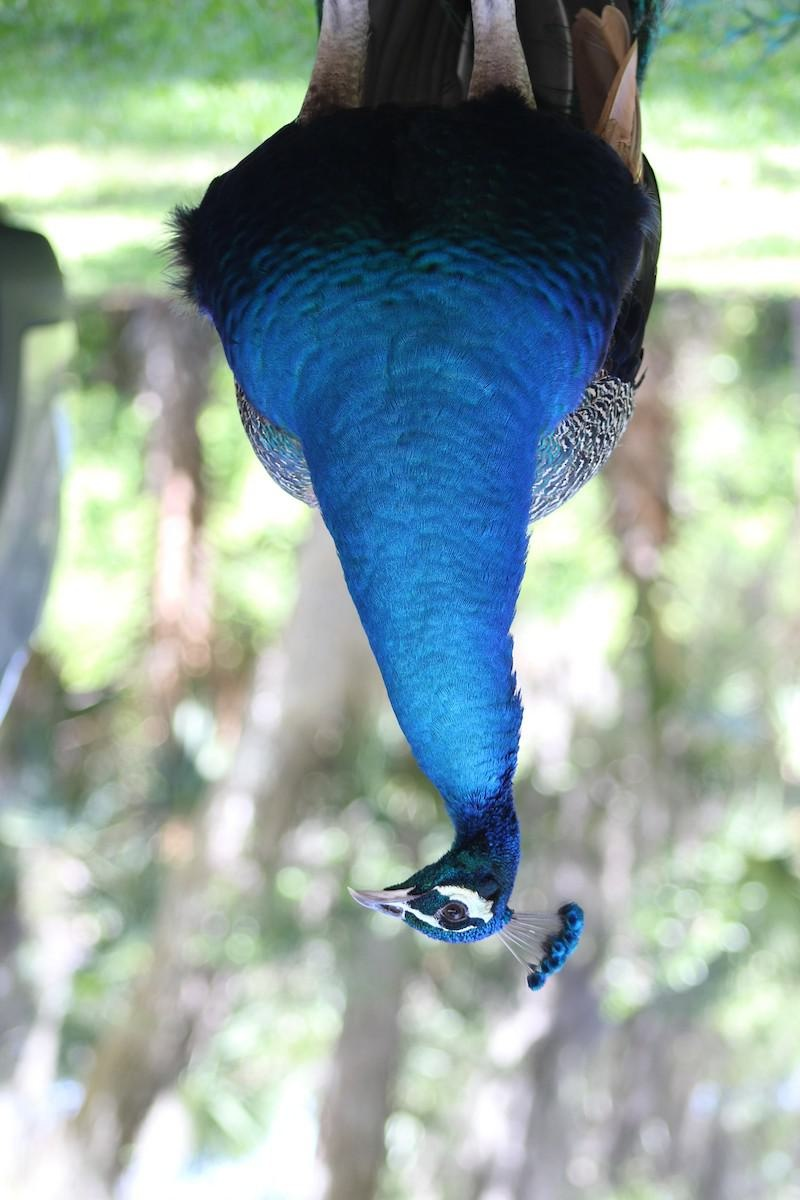peacock: (151, 43, 658, 1038)
